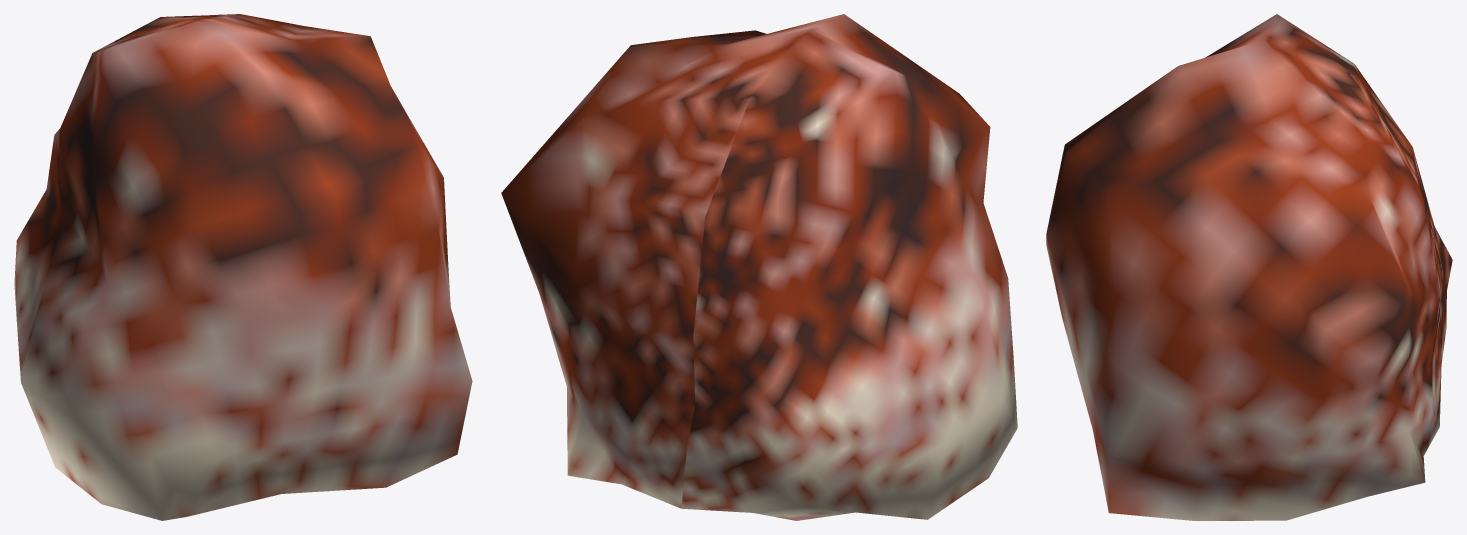
Rendered from Rocks_02_b.fbx.
The picture shows the model from 3 angles, left to right: view 1: azimuth 30°, elevation 25°; view 2: azimuth 150°, elevation 25°; view 3: azimuth 270°, elevation 25°; orthographic projection. The views are drawn at different scales.
Visible parts, largest first — view 1: Rock_2; view 2: Rock_2; view 3: Rock_2.
Part boxes in pixels (x1,y1,x2,y2): Rock_2: [14, 14, 472, 520]; Rock_2: [501, 14, 1017, 520]; Rock_2: [1046, 14, 1452, 520].
Bounding box in the file's own units: 82.42 × 87.29 × 79.05.
